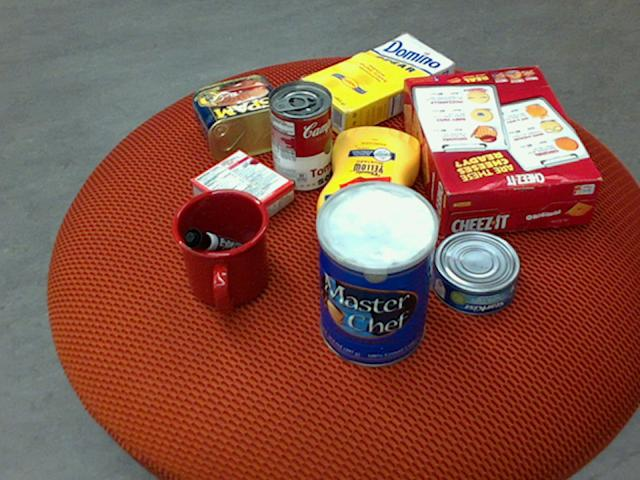cracker_box: (401, 65, 601, 235)
gelatin_box: (189, 148, 292, 234)
large_marker: (182, 229, 254, 261)
master_chef_can: (315, 183, 436, 367)
mug: (169, 189, 269, 314)
mustard_bottle: (316, 126, 421, 272)
potted_meat_can: (193, 74, 296, 161)
sugar_box: (299, 32, 454, 137)
tomato_soup_can: (268, 79, 332, 190)
tuna_fish_can: (431, 229, 520, 315)
